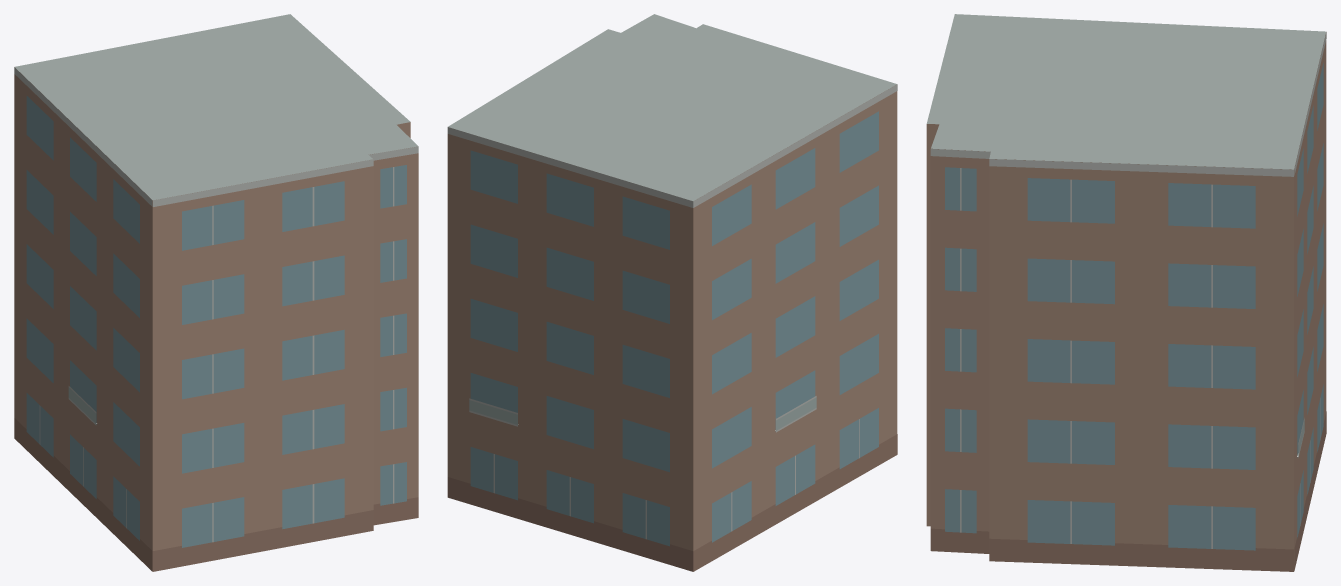
Rendered from survey-upis-32834645.glb.
The picture shows the model from 3 angles, left to right: view 1: azimuth 30°, elevation 25°; view 2: azimuth 150°, elevation 25°; view 3: azimuth 270°, elevation 25°; orthographic projection. The views are drawn at different scales.
Parts seen in each view (by area): view 1: survey-upis-32834645.tmp; view 2: survey-upis-32834645.tmp; view 3: survey-upis-32834645.tmp.
Part boxes in pixels (x1,y1,x2,y2): survey-upis-32834645.tmp: [14, 14, 418, 571]; survey-upis-32834645.tmp: [447, 14, 897, 571]; survey-upis-32834645.tmp: [926, 14, 1326, 571].
Bounding box in the file's own units: 11.04 × 13.3 × 11.99.
